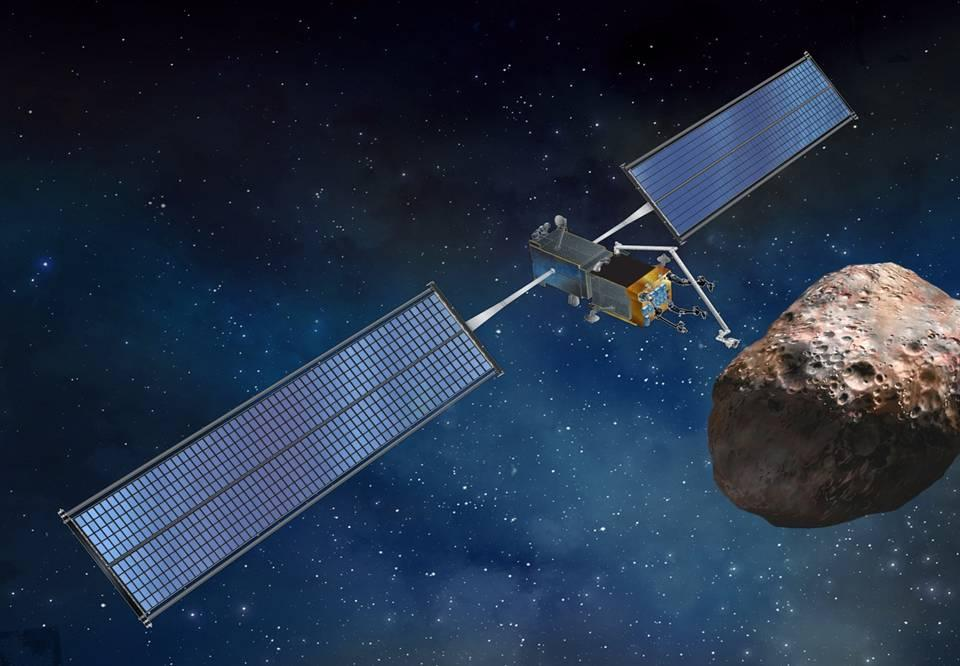body: (527, 224, 674, 330)
solar: (55, 277, 509, 632), (617, 48, 863, 248)
